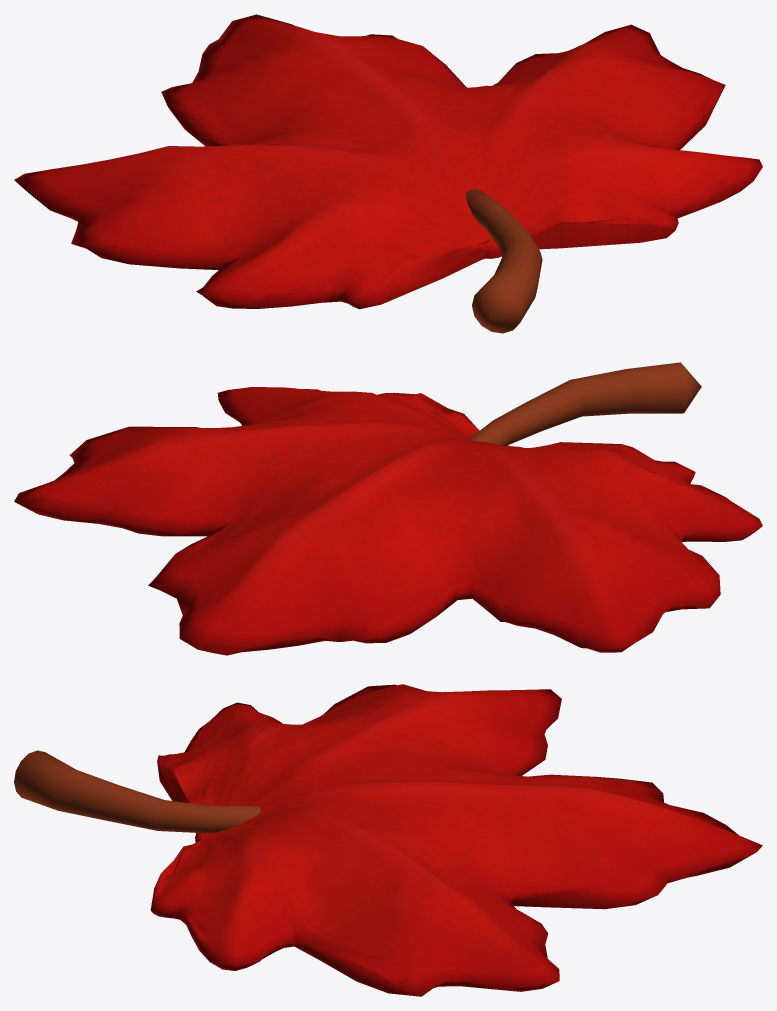
Rendered from leaf_red.glb.
3 views of the same model, one above another, from view 1: azimuth 30°, elevation 25°; view 2: azimuth 150°, elevation 25°; view 3: azimuth 270°, elevation 25° (orthographic). The views are drawn at different scales.
Parts seen in each view (by area): view 1: model; view 2: model; view 3: model.
Part boxes in pixels (x1,y1,x2,y2): model: [14, 14, 762, 333]; model: [14, 362, 762, 655]; model: [14, 684, 762, 996].
Bounding box in the file's own units: 0.2951 × 0.0315 × 0.3056.
Materials: 2 (1 with a texture image).
